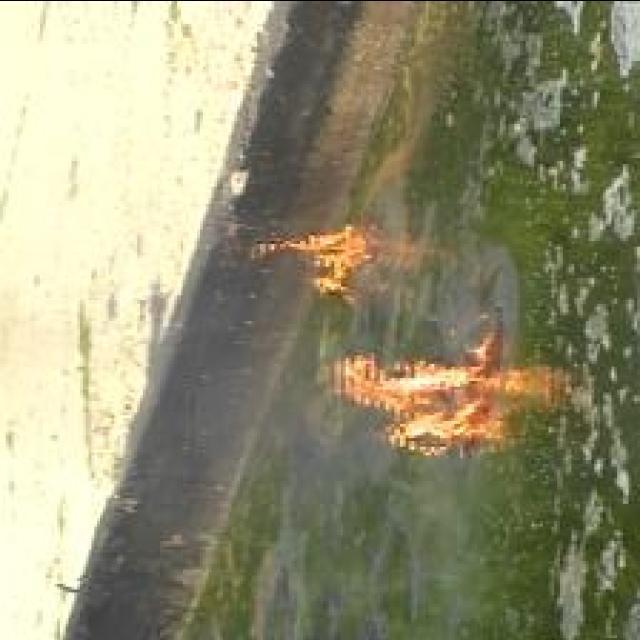Fire: (332, 319, 568, 452), (252, 223, 372, 297)
